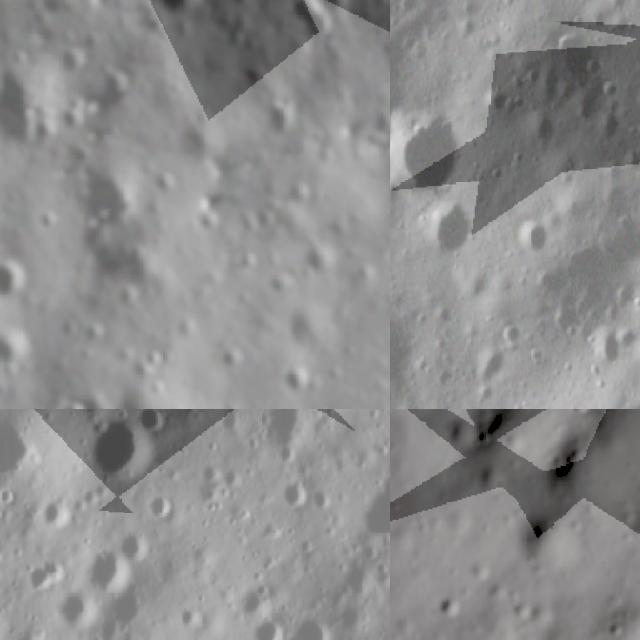crater: (83, 414, 165, 489), (390, 117, 449, 200), (72, 157, 138, 230), (0, 409, 54, 475), (426, 205, 474, 264), (82, 546, 138, 594), (354, 471, 390, 545), (52, 584, 102, 635), (285, 0, 329, 56), (509, 219, 548, 270), (298, 239, 337, 282), (0, 332, 37, 376), (285, 611, 338, 640), (115, 524, 153, 564), (159, 0, 213, 27), (0, 257, 29, 306), (433, 588, 469, 626), (587, 327, 618, 370), (278, 474, 313, 511), (49, 44, 86, 78), (475, 342, 502, 388), (132, 409, 171, 440), (280, 362, 312, 399), (115, 289, 152, 320), (145, 489, 179, 522), (137, 343, 169, 377), (249, 612, 286, 640), (78, 26, 111, 52), (219, 346, 242, 372), (55, 399, 92, 409), (0, 544, 7, 566)
